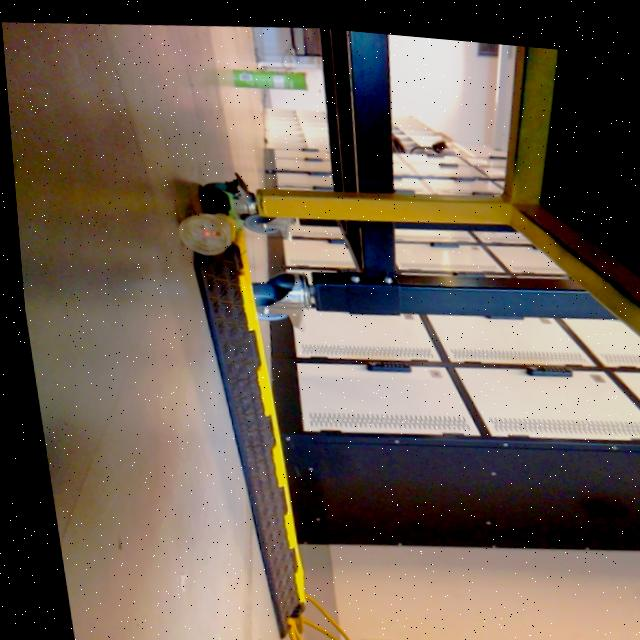greenpringles: (223, 54, 317, 96)
